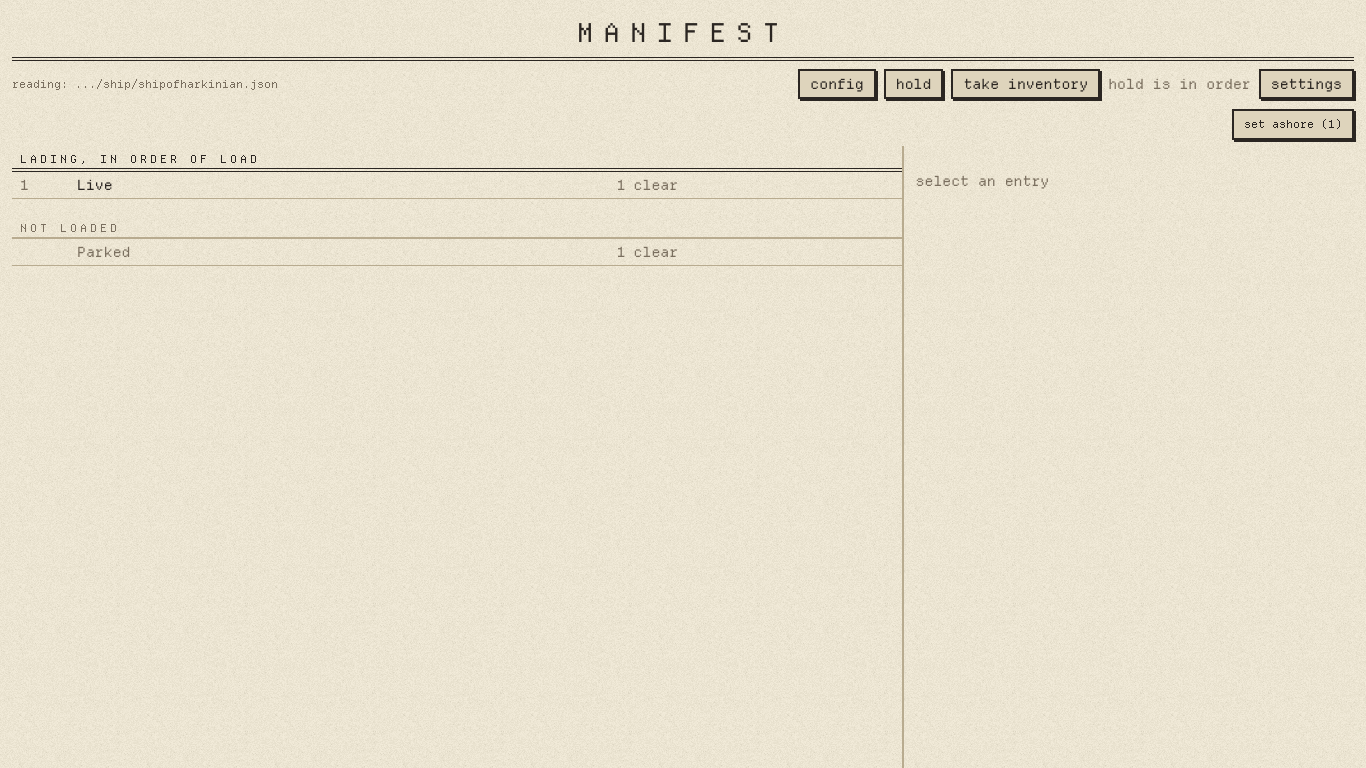
App › does not resurrect the ashore modal after recovering from a failed haul-back
What coordinates should you click on to do the following:
click the button "set ashore (1)"
I would click on:
 (1293, 124)
Its box is x1=1232 y1=109 x2=1354 y2=140.
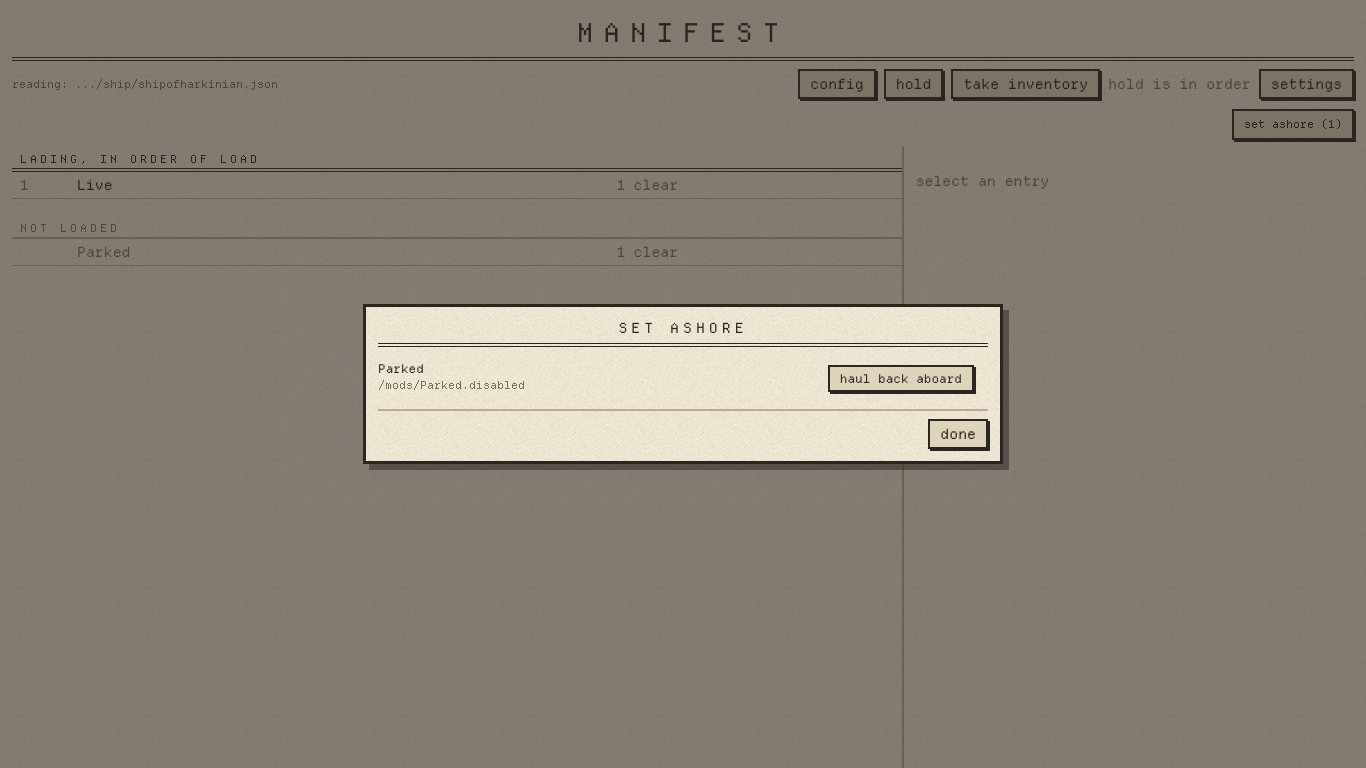
What coordinates should you click on to do the following:
click the button "haul back aboard"
I would click on:
 (901, 378)
Its box is x1=828 y1=364 x2=974 y2=392.
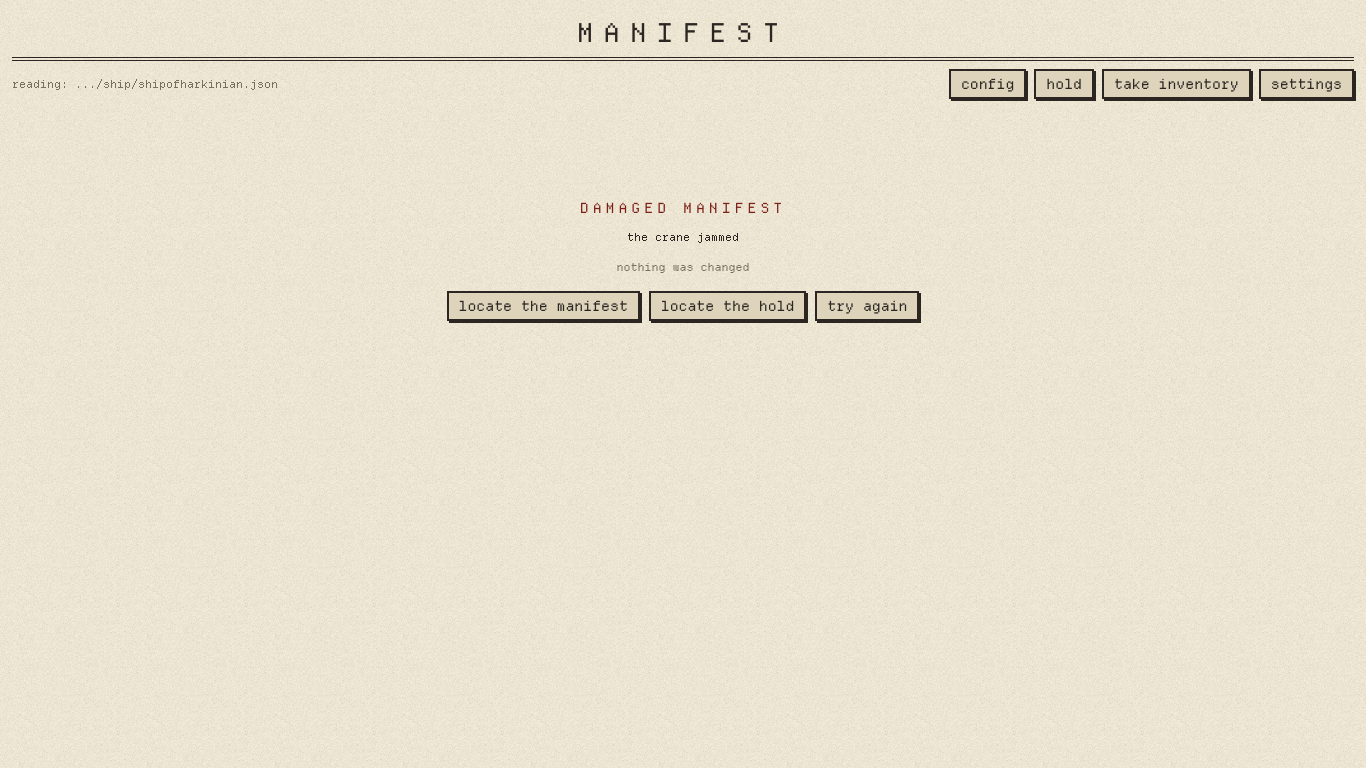
Expected: the text "DAMAGED MANIFEST" is shown, x1=580 y1=199 x2=786 y2=217
What coordinates should you click on to do the following:
click the button "try again"
I would click on:
 (867, 306)
Its box is x1=815 y1=290 x2=920 y2=320.
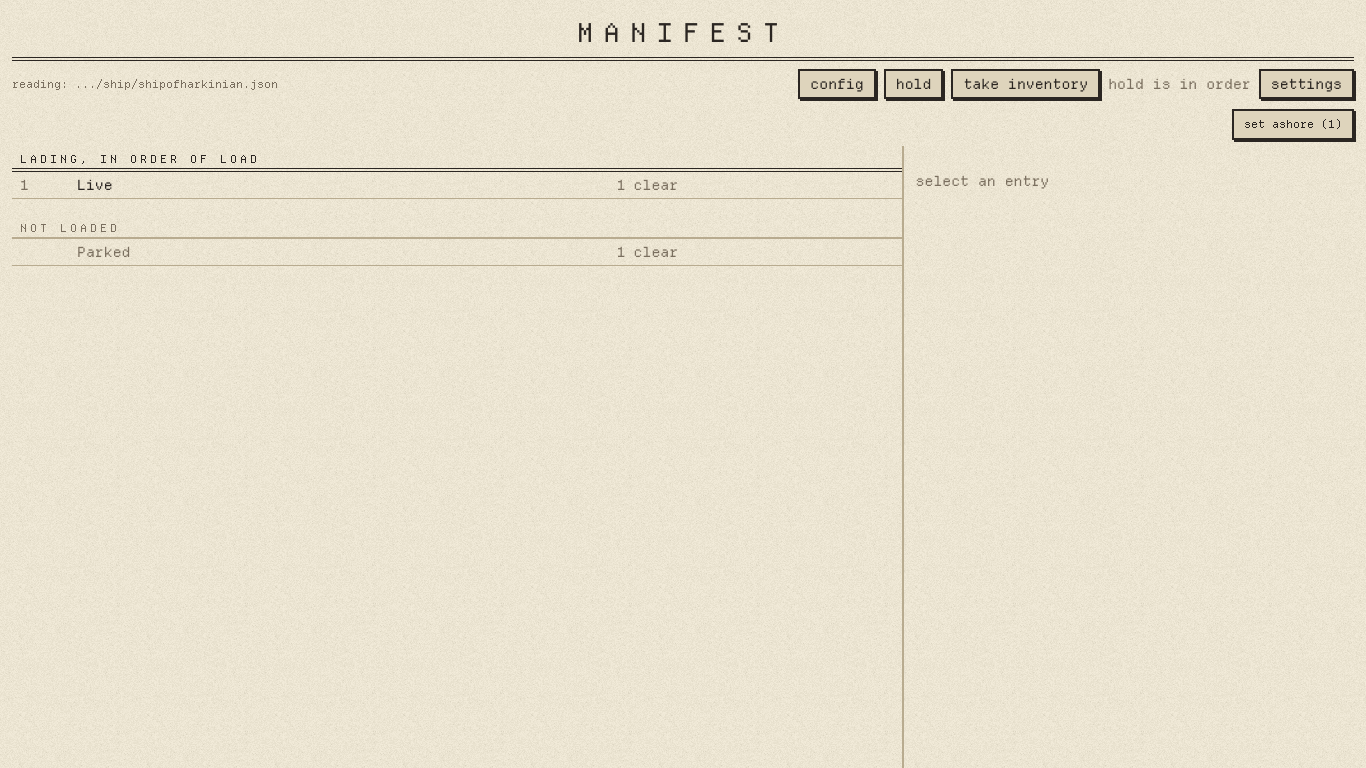
Expected: the button "set ashore (1)" is shown, x1=1232 y1=109 x2=1354 y2=140
